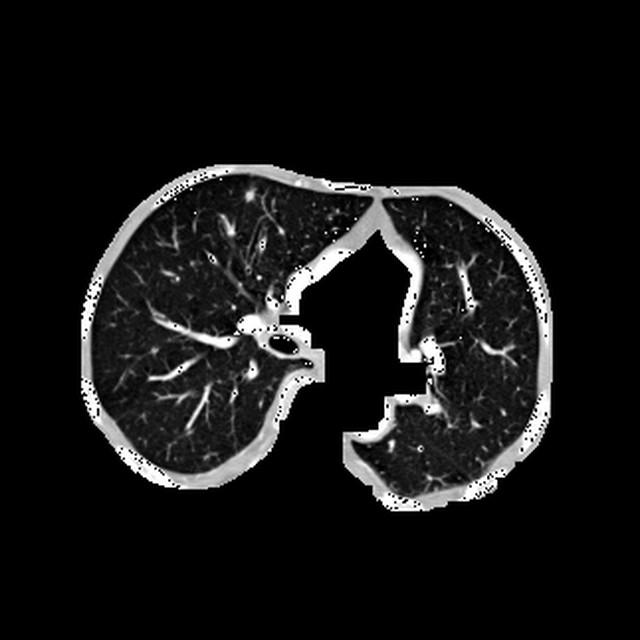PN: (244, 188, 256, 200)
